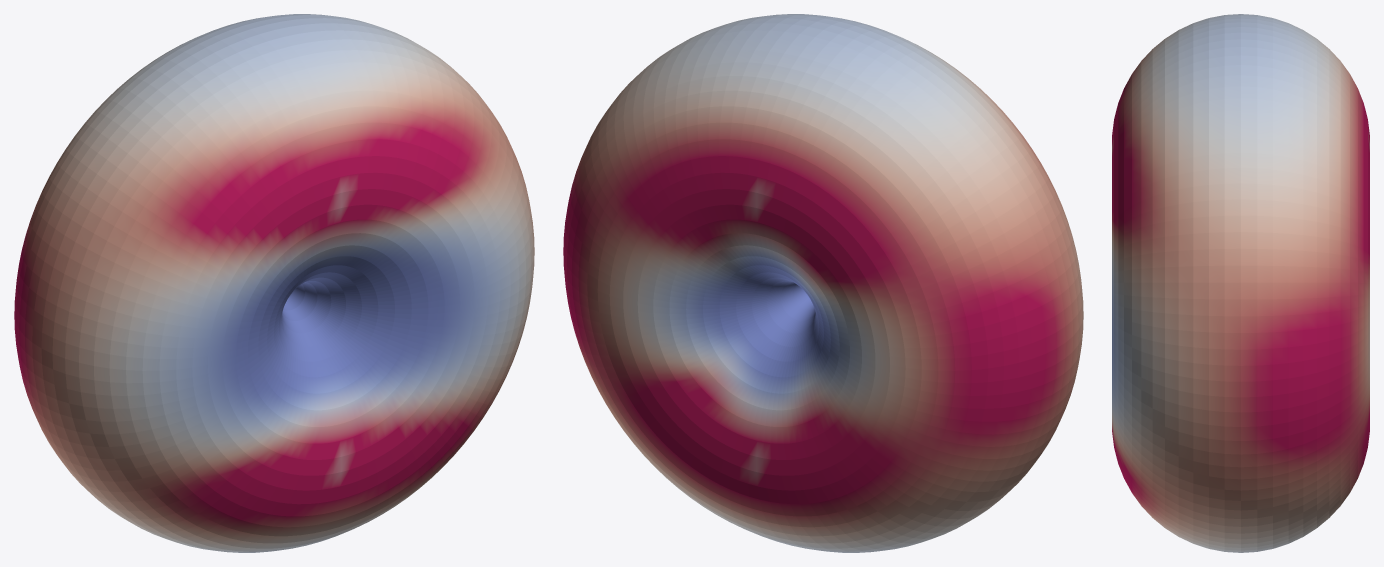
3 renders of one model, left to right at view 1: azimuth 30°, elevation 25°; view 2: azimuth 150°, elevation 25°; view 3: azimuth 270°, elevation 25°, orthographic. The views are drawn at different scales.
Visible parts, largest first — view 1: world; view 2: world; view 3: world.
Boxes of the visible parts, x1=… form: world: x1=14, y1=14, x2=534, y2=552; world: x1=563, y1=14, x2=1083, y2=552; world: x1=1112, y1=14, x2=1369, y2=552.
Size of the model in its own units: 19.2 by 19.2 by 9.18.
